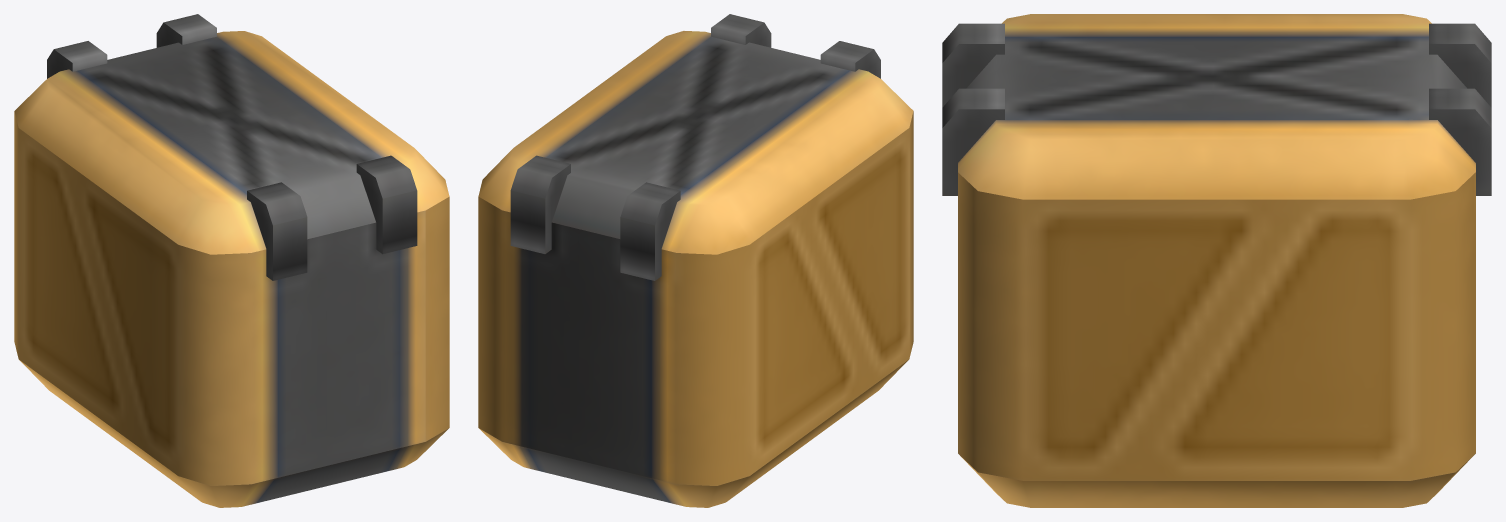
Rendered from Box_Yellow.FBX.
3 renders of one model, left to right at view 1: azimuth 30°, elevation 25°; view 2: azimuth 150°, elevation 25°; view 3: azimuth 270°, elevation 25°, orthographic. The views are drawn at different scales.
Parts seen in each view (by area): view 1: Box_Yellow; view 2: Box_Yellow; view 3: Box_Yellow.
Part boxes in pixels (bbox=[...]): Box_Yellow: bbox=[14, 14, 449, 507]; Box_Yellow: bbox=[478, 14, 913, 507]; Box_Yellow: bbox=[942, 14, 1491, 507].
Bounding box in the file's own units: 194 × 217 × 285.
